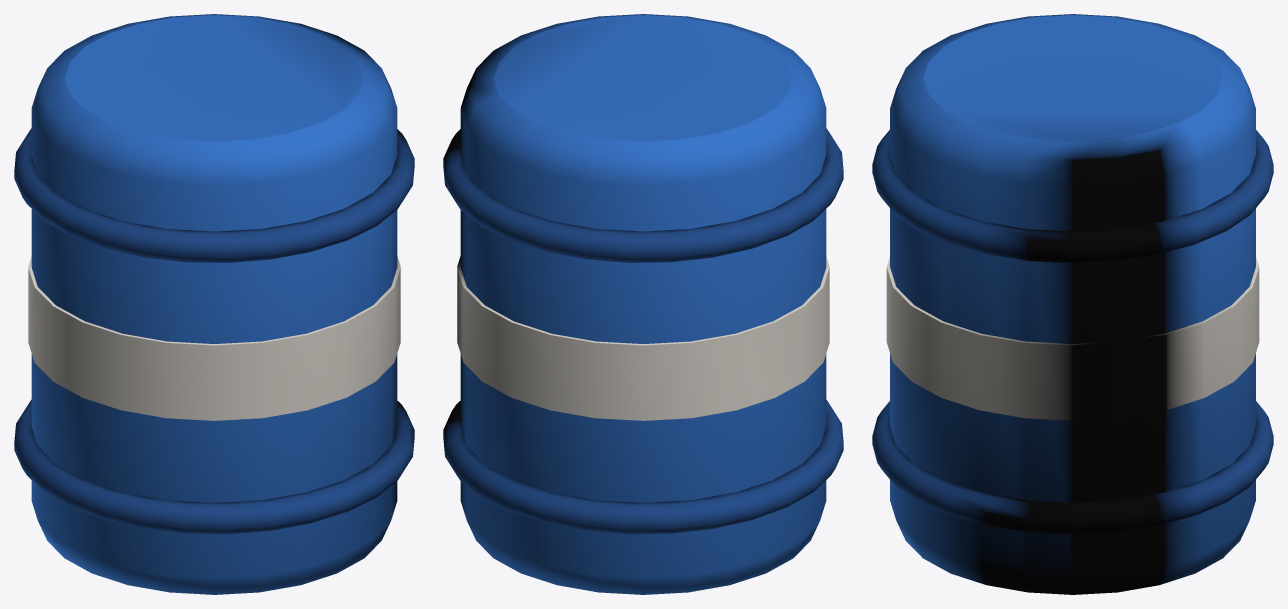
File: junk_barrel.glb
3 renders of one model, left to right at view 1: azimuth 30°, elevation 25°; view 2: azimuth 150°, elevation 25°; view 3: azimuth 270°, elevation 25°, orthographic.
Parts seen in each view (by area): view 1: barrel_mesh; view 2: barrel_mesh; view 3: barrel_mesh.
Boxes of the visible parts, left/top/right/bottom form: barrel_mesh: left=14, top=14, right=414, bottom=594; barrel_mesh: left=443, top=14, right=843, bottom=594; barrel_mesh: left=872, top=14, right=1273, bottom=594.
Size of the model in its own units: 0.4826 by 0.6 by 0.4826.
